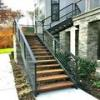stairs: (24, 36, 76, 91)
